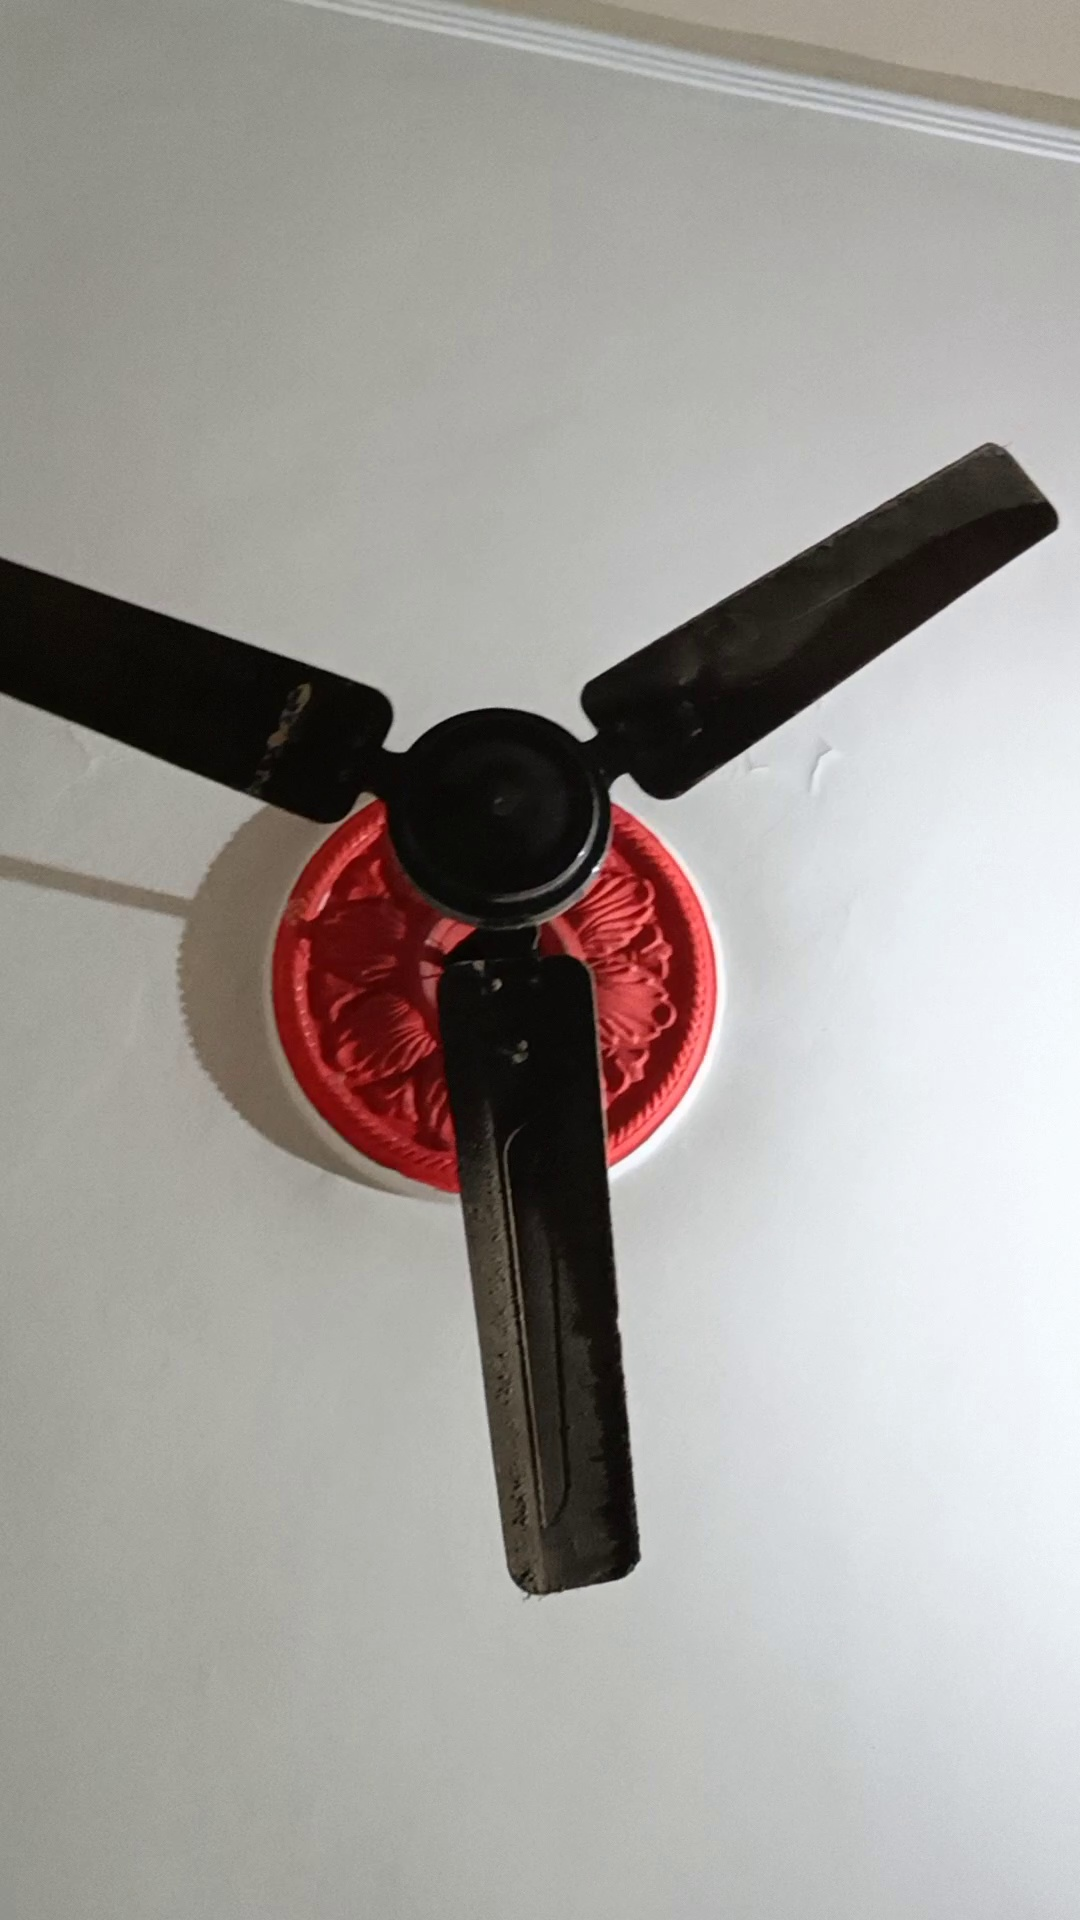fan: (1, 419, 1046, 1625)
